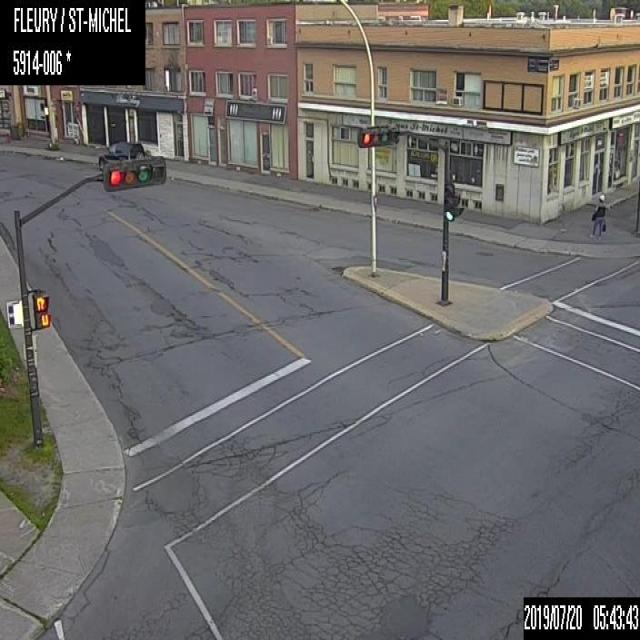pedestrian: (591, 192, 607, 236)
vehicle: (98, 139, 146, 168)
